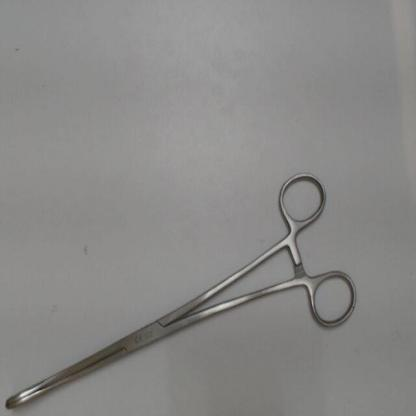Sponge Forceps: (0, 162, 363, 414)
